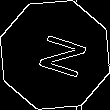N_W: (25, 28, 85, 82)
